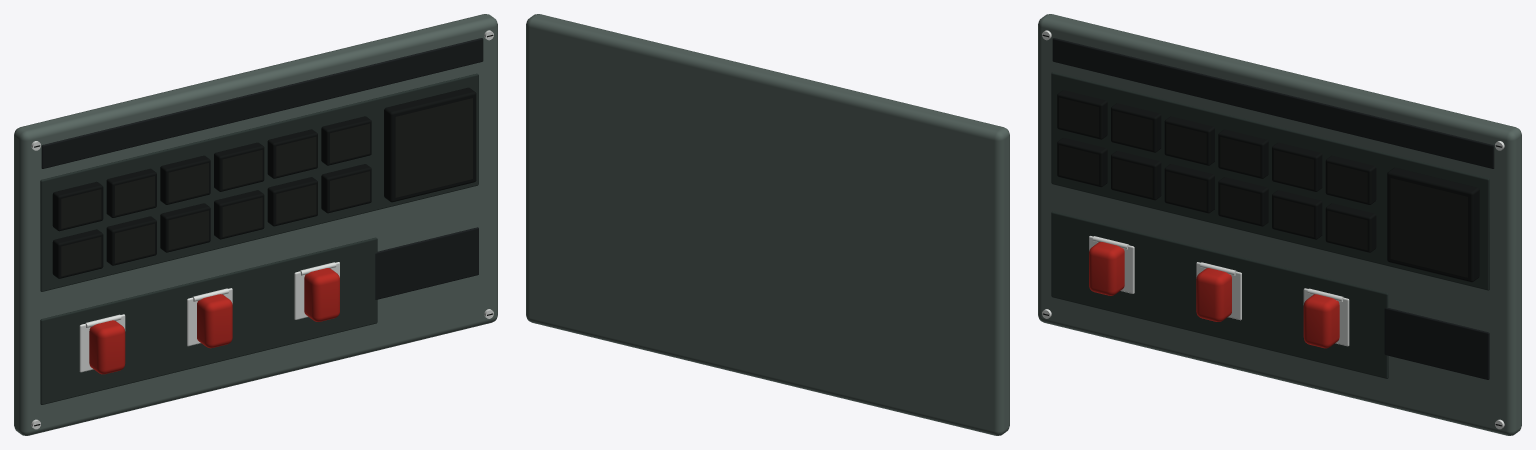
The model's file is console.glb.
The picture shows the model from 3 angles, left to right: view 1: azimuth 30°, elevation 25°; view 2: azimuth 150°, elevation 25°; view 3: azimuth 330°, elevation 25°; orthographic projection.
Parts seen in each view (by area): view 1: panel, inset_guards, inset_matrix, nameplate, lens_master, placard, inset_master, lamp_body_master, guard_0, guard_1, guard_2, lens_0_0 (+26 smaller); view 2: panel; view 3: panel, inset_guards, inset_matrix, nameplate, lens_master, placard, inset_master, lamp_body_master, guard_2, guard_0, guard_1, lens_0_2 (+26 smaller).
Boxes of the visible parts, <box> form: panel: <box>14,14,497,435</box>; inset_guards: <box>40,237,377,404</box>; inset_matrix: <box>40,98,375,291</box>; nameplate: <box>41,38,483,168</box>; lens_master: <box>395,98,472,197</box>; placard: <box>375,227,478,299</box>; inset_master: <box>376,73,478,210</box>; lamp_body_master: <box>384,87,476,202</box>; guard_0: <box>89,320,125,374</box>; guard_1: <box>197,294,232,348</box>; guard_2: <box>304,268,339,321</box>; lens_0_0: <box>61,189,101,228</box>; panel: <box>526,14,1009,435</box>; panel: <box>1038,14,1521,435</box>; inset_guards: <box>1051,211,1388,378</box>; inset_matrix: <box>1051,72,1386,265</box>; nameplate: <box>1052,38,1494,168</box>; lens_master: <box>1390,178,1467,277</box>; placard: <box>1384,308,1489,379</box>; inset_master: <box>1385,153,1489,290</box>; lamp_body_master: <box>1387,167,1479,282</box>; guard_2: <box>1303,294,1339,348</box>; guard_0: <box>1089,242,1124,295</box>; guard_1: <box>1196,268,1231,321</box>; lens_0_2: <box>1166,123,1206,163</box>.
Size of the model in its own units: 2.1 by 1.28 by 0.191.
